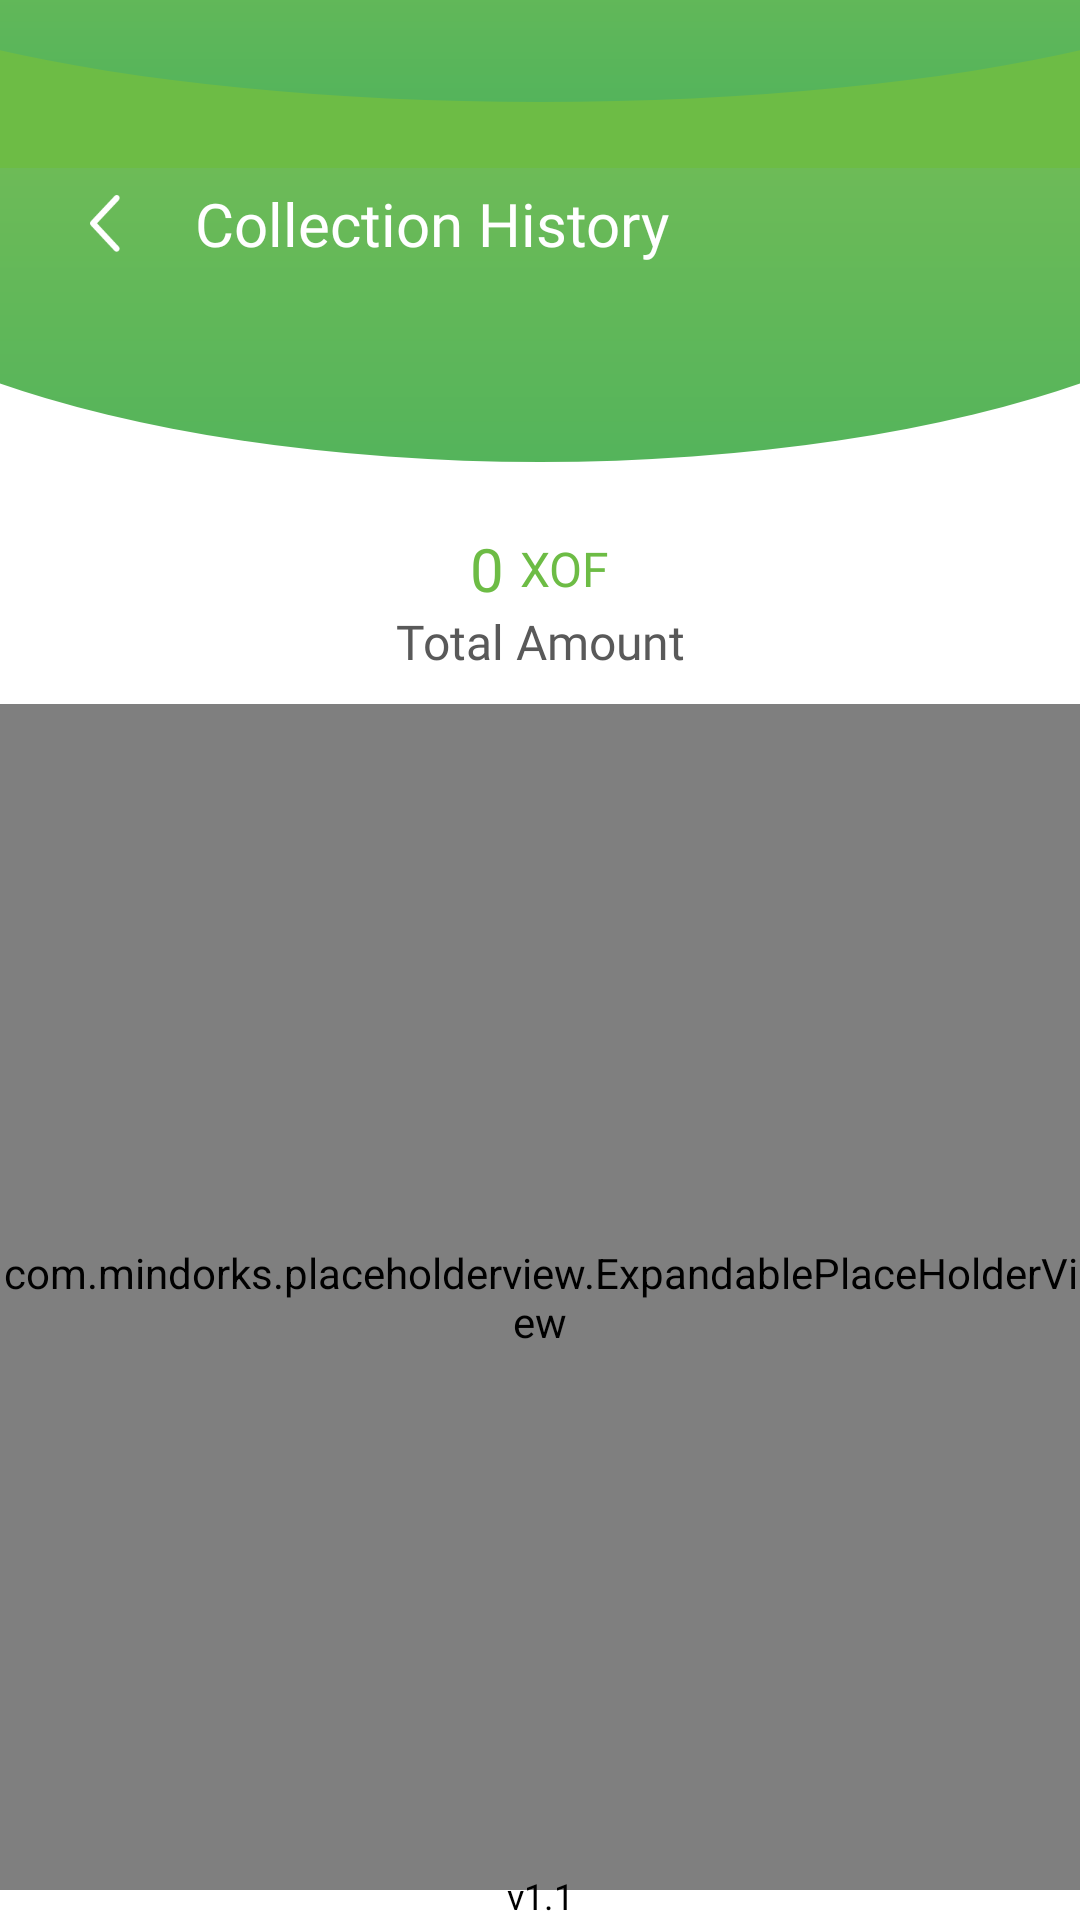

Icon click points for this 1080px×1920px phone screenshot, format [x,y]:
back: [105,223]
